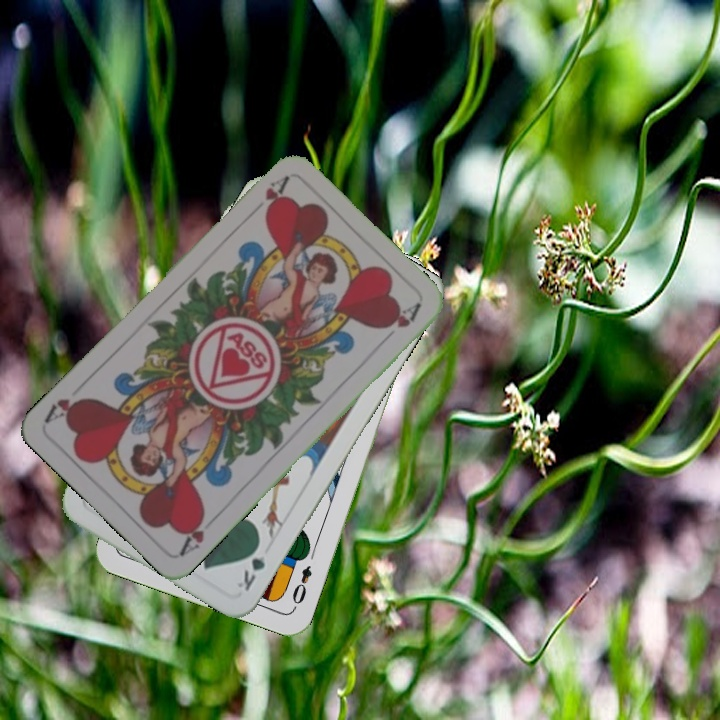EO: (288, 561, 315, 612)
GK: (232, 538, 268, 594)
HA: (244, 172, 292, 220), (176, 508, 221, 558)
